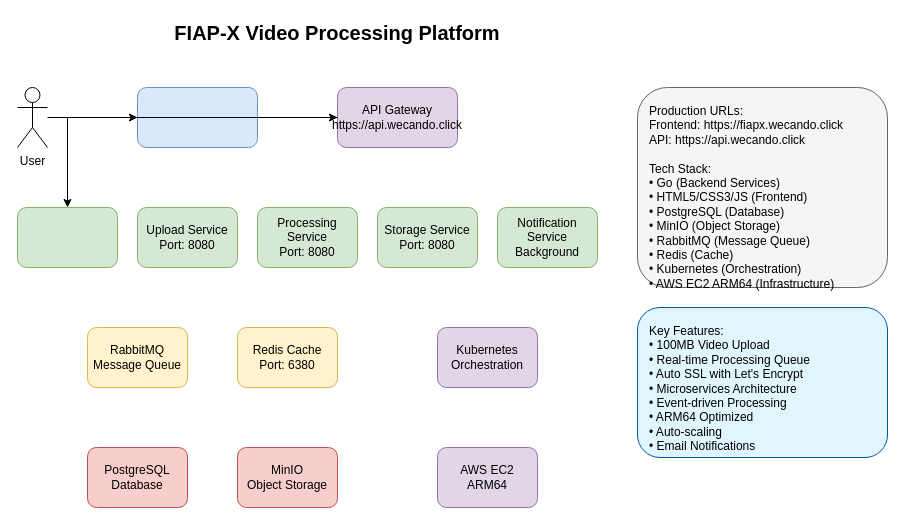
The diagram is 905 pixels wide and 525 high, and some of its shapes have lost their labels. Here are the shapes that lost their labels. From the top down, the box of each, then its label:
(136, 86, 258, 148): Frontend https://fiapx.wecando.click
(16, 206, 118, 268): Auth Service Port: 8082
